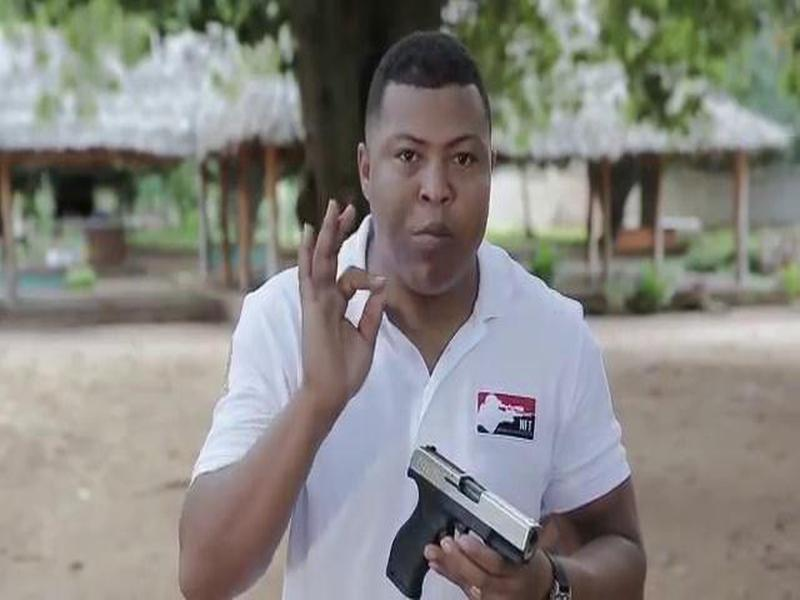Pistola: (383, 439, 549, 600)
